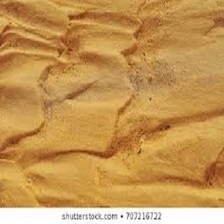sandy_soil: (8, 12, 213, 193)
